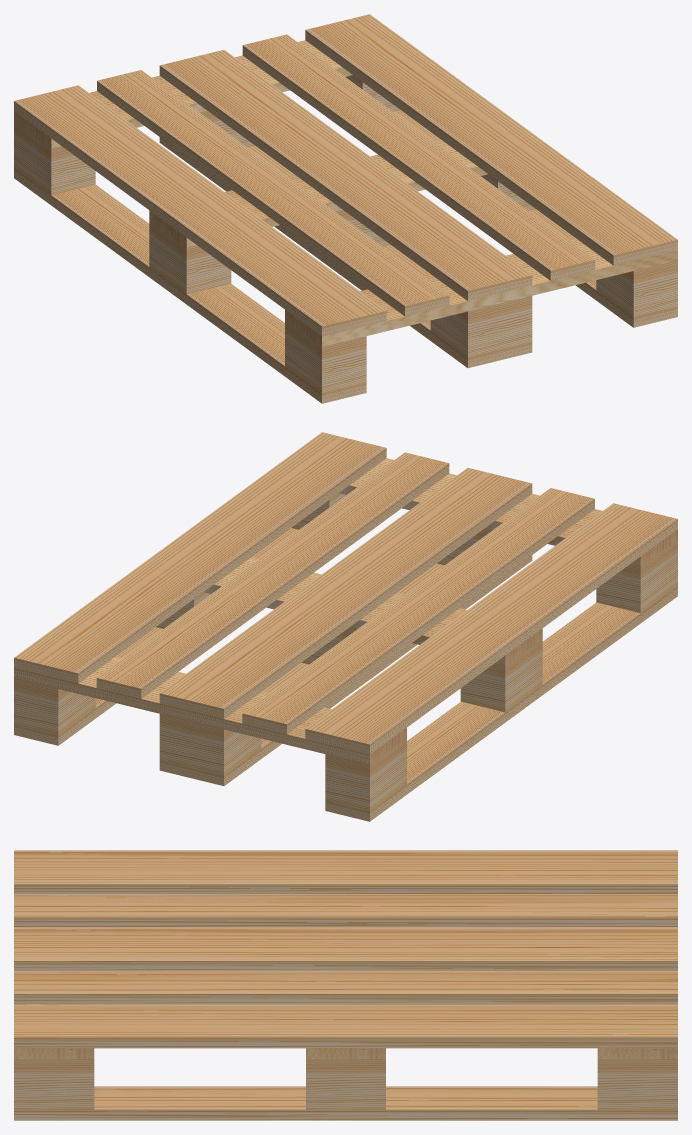
Rendered from objectrial.glb.
3 views of the same model, one above another, from view 1: azimuth 30°, elevation 25°; view 2: azimuth 150°, elevation 25°; view 3: azimuth 270°, elevation 25° (orthographic). The views are drawn at different scales.
Parts seen in each view (by area): view 1: Cube.041, Cube.043, Cube.042, Cube.044, Cube.045, Cube.026, Cube.038, Cube.037, Cube.034, Cube.032, Cube.033, Cube.031 (+4 smaller); view 2: Cube.041, Cube.043, Cube.042, Cube.044, Cube.045, Cube.026, Cube.040, Cube.036, Cube.033, Cube.032, Cube.034, Cube.030 (+4 smaller); view 3: Cube.043, Cube.042, Cube.041, Cube.044, Cube.045, Cube.027, Cube.031, Cube.030, Cube.029, Cube.040, Cube.038, Cube.039.
Boxes of the visible parts, x1,y1,x2,y2 form: Cube.041: [159, 50, 532, 300]; Cube.043: [305, 14, 677, 265]; Cube.042: [14, 85, 386, 336]; Cube.044: [242, 34, 595, 280]; Cube.045: [97, 70, 449, 316]; Cube.026: [14, 168, 366, 403]; Cube.038: [285, 238, 677, 346]; Cube.037: [430, 296, 532, 357]; Cube.034: [285, 320, 366, 393]; Cube.032: [149, 221, 231, 294]; Cube.033: [14, 122, 95, 195]; Cube.031: [596, 260, 677, 317]; Cube.041: [159, 468, 532, 718]; Cube.043: [14, 432, 386, 683]; Cube.042: [305, 503, 677, 754]; Cube.044: [96, 452, 449, 698]; Cube.045: [242, 488, 594, 734]; Cube.026: [325, 586, 677, 821]; Cube.040: [14, 656, 406, 764]; Cube.036: [159, 714, 261, 775]; Cube.033: [325, 738, 406, 811]; Cube.032: [460, 639, 542, 712]; Cube.034: [596, 540, 677, 613]; Cube.030: [14, 678, 95, 735]; Cube.043: [14, 1003, 677, 1048]; Cube.042: [14, 850, 677, 893]; Cube.041: [14, 927, 677, 970]; Cube.044: [14, 970, 677, 1003]; Cube.045: [14, 894, 677, 926]; Cube.027: [14, 1086, 677, 1120]; Cube.031: [14, 1059, 94, 1109]; Cube.030: [597, 1059, 677, 1109]; Cube.029: [306, 1059, 385, 1109]; Cube.040: [597, 1048, 677, 1059]; Cube.038: [14, 1048, 94, 1059]; Cube.039: [306, 1048, 385, 1059].
Size of the model in its own units: 0.8 by 0.166 by 1.2.
1 material, 1 textured.
